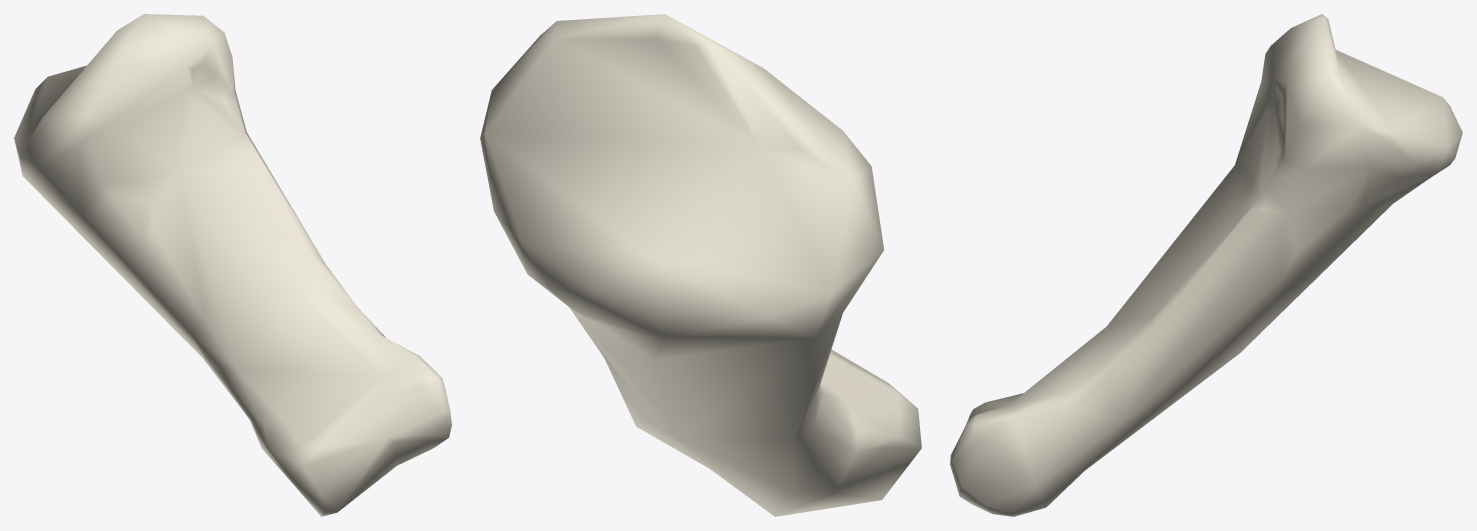
3 renders of one model, left to right at view 1: azimuth 30°, elevation 25°; view 2: azimuth 150°, elevation 25°; view 3: azimuth 270°, elevation 25°, orthographic. The views are drawn at different scales.
Parts seen in each view (by area): view 1: ZA_d7ed85a2496bb09f; view 2: ZA_d7ed85a2496bb09f; view 3: ZA_d7ed85a2496bb09f.
Boxes of the visible parts, left/top/right/bottom form: ZA_d7ed85a2496bb09f: left=14, top=14, right=451, bottom=516; ZA_d7ed85a2496bb09f: left=480, top=14, right=921, bottom=516; ZA_d7ed85a2496bb09f: left=950, top=14, right=1462, bottom=516.
Bounding box in the file's own units: 0.0151 × 0.0213 × 0.0216.
